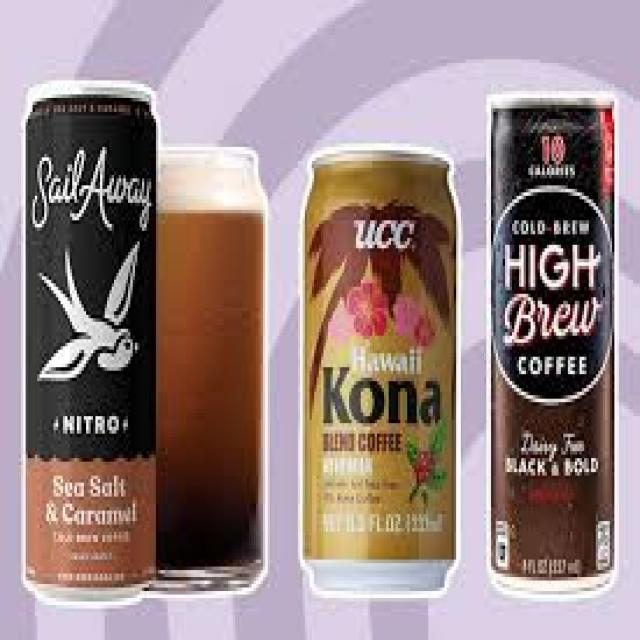Cans: (9, 70, 172, 619), (298, 136, 465, 602), (482, 84, 624, 594)
